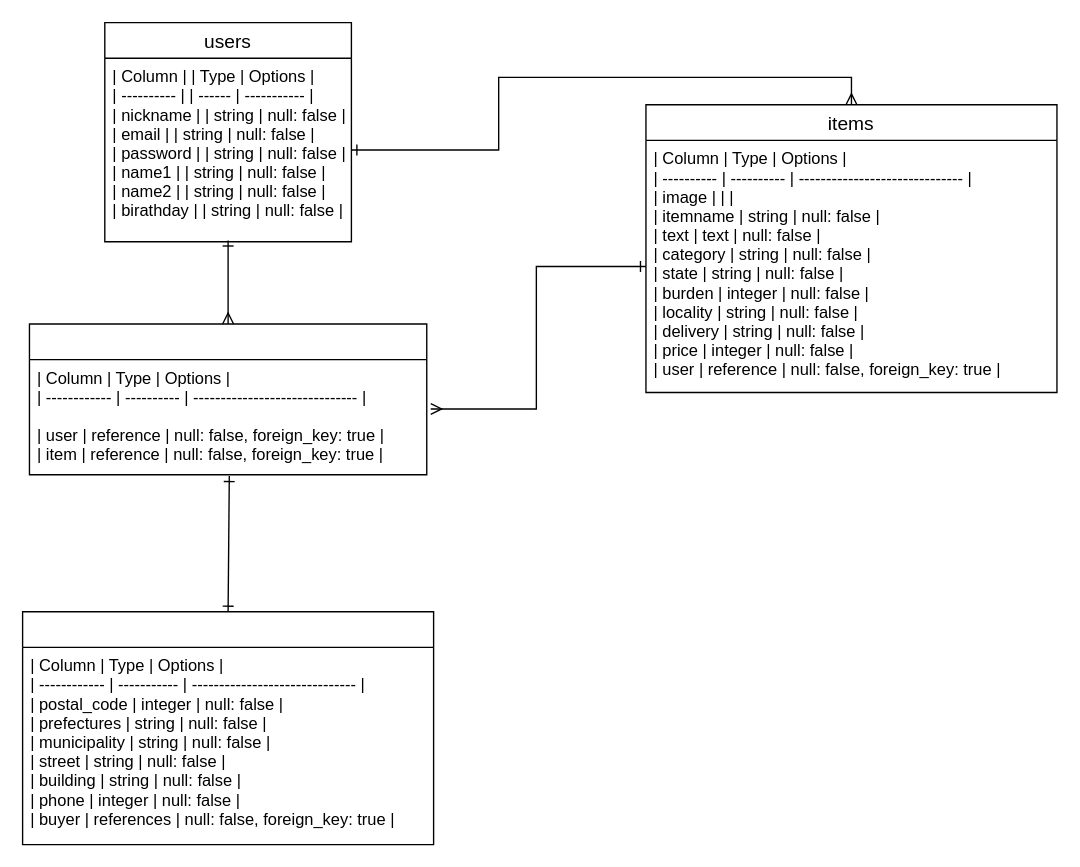
Image size: 1080x867. Some labels were removed from this diagram. The shapes that lost their labels are listed below. From the top down, each one's box as (x1, y1, x2, y2) in pixels, then its label:
(28, 323, 427, 475): buyers
(21, 610, 434, 845): addresses
